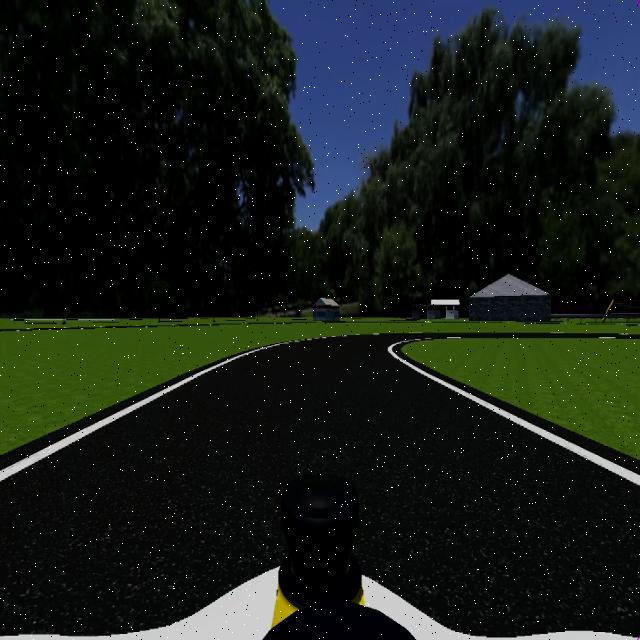road: (0, 330, 640, 636)
solid_line: (0, 345, 280, 483), (388, 343, 640, 486)
